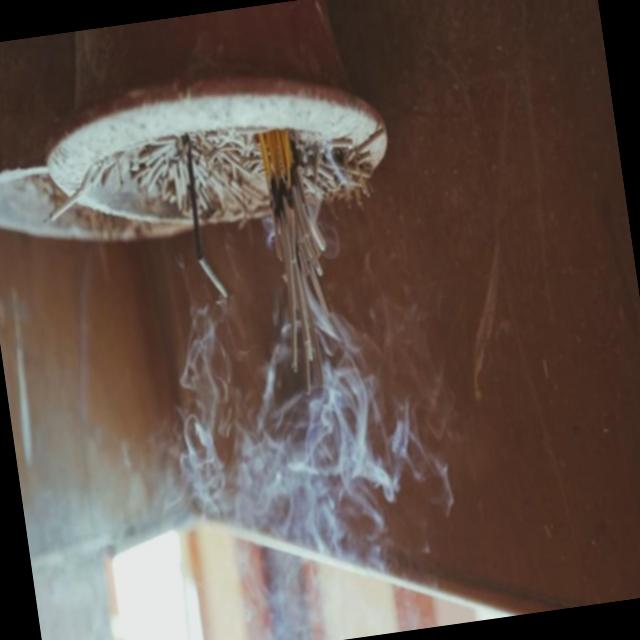smoke: (156, 339, 414, 577)
